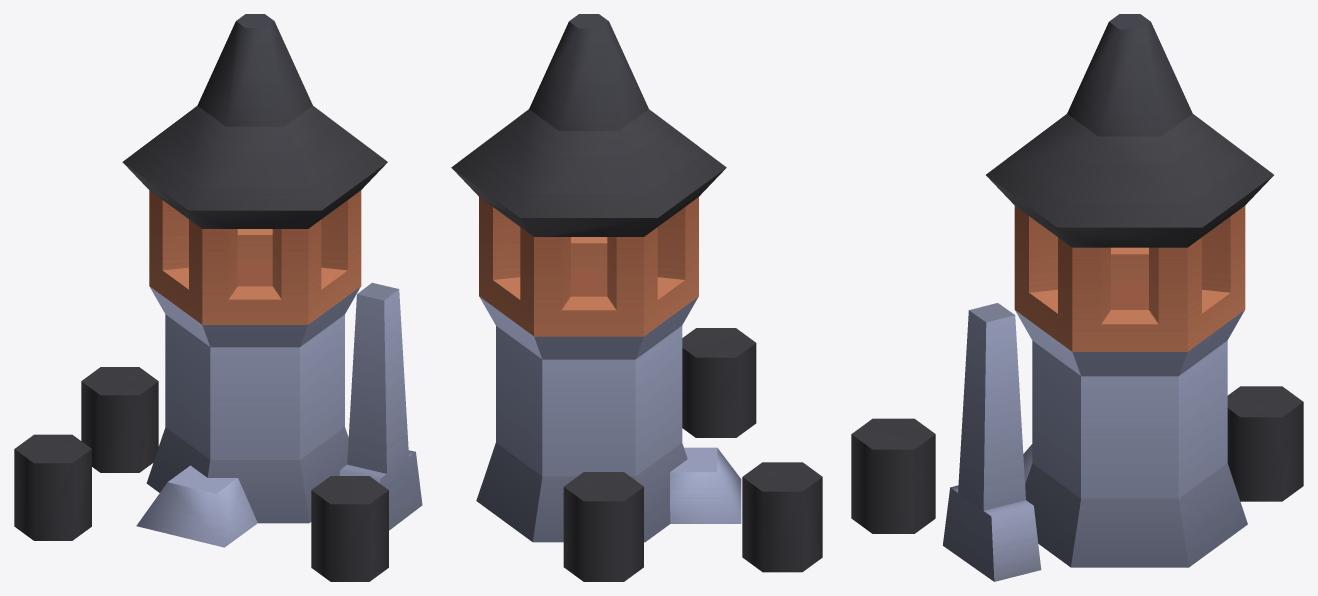
Rendered from oilRefinery.fbx.
The picture shows the model from 3 angles, left to right: view 1: azimuth 30°, elevation 25°; view 2: azimuth 150°, elevation 25°; view 3: azimuth 270°, elevation 25°; orthographic projection. The views are drawn at different scales.
Parts seen in each view (by area): view 1: building_tower, building_smelter.001, unit_wall_tower.002, unit_wall_tower.001, unit_wall_tower; view 2: building_tower, unit_wall_tower.002, unit_wall_tower, unit_wall_tower.001; view 3: building_tower, building_smelter.001, unit_wall_tower.001, unit_wall_tower.
Part boxes in pixels (x1,y1,x2,y2): building_tower: (122,14,387,547); building_smelter.001: (339,282,422,530); unit_wall_tower.002: (14,434,91,540); unit_wall_tower.001: (311,476,388,581); unit_wall_tower: (81,367,158,472); building_tower: (451,14,741,542); unit_wall_tower.002: (742,462,822,572); unit_wall_tower: (563,472,643,581); unit_wall_tower.001: (682,328,756,437); building_tower: (986,14,1273,567); building_smelter.001: (942,303,1041,581); unit_wall_tower.001: (851,418,935,533); unit_wall_tower: (1227,386,1303,501).
Size of the model in its own units: 60.92 by 82.32 by 66.83.
5 materials, 5 textured.
